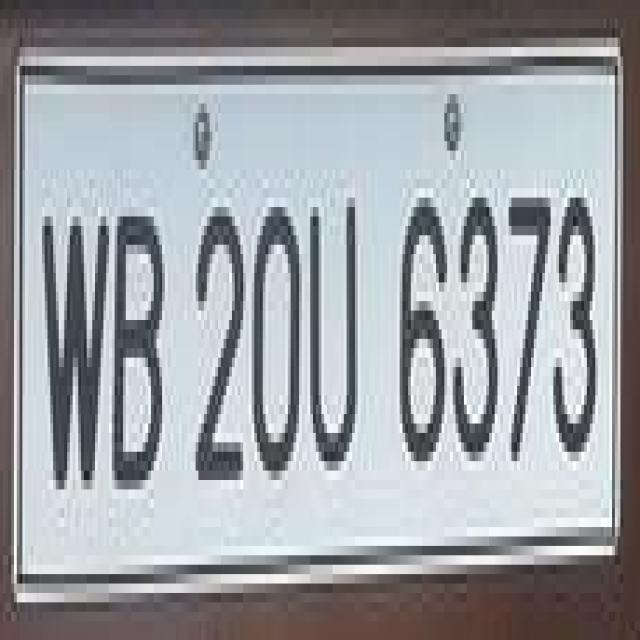license_plate: (3, 28, 615, 593)
